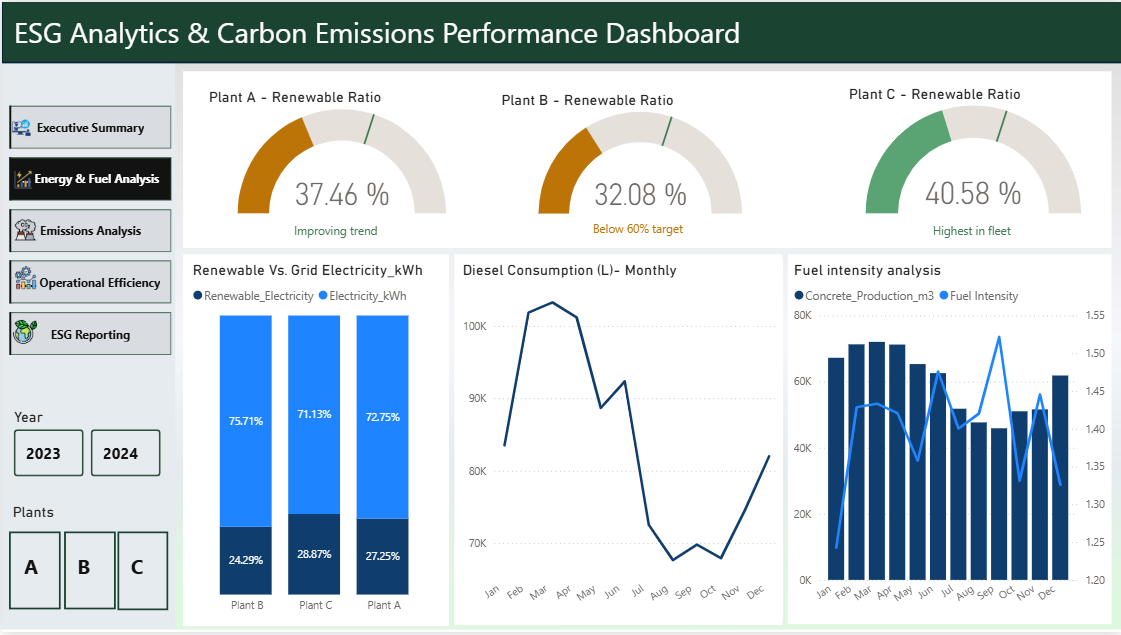

The page's visual inventory and layout, read from the dashboard file:
{"tool":"powerbi","page":{"name":"             ... Energy & Fuel Analysis","canvas":[1280,720],"ordinal":1},"visuals":[{"type":"image","box":[11,193.4,26.1,20.6],"z":0,"group":"g4"},{"type":"hundredPercentStackedColumnChart","title":"Renewable Vs. Grid Electricity_kWh","fields":{"Category":["energy4.Plant"],"Y":["Sum(energy4.Renewable_Electricity_kWh)","Sum(energy4.Electricity_kWh)"]},"box":[212.9,295.7,291.4,411.4],"z":0},{"type":"gauge","title":" Plant A - Renewable Ratio","fields":{"Y":["Dax.Renewable Ratio %"],"TargetValue":["Dax.Renewable Target"]},"box":[231.9,98.8,314.2,148.2],"z":1000,"group":"g1"},{"type":"image","box":[13.7,240.1,24.7,41.2],"z":1000,"group":"g4"},{"type":"lineChart","title":"Diesel Consumption (L)- Monthly","fields":{"Category":["DateTable.Month Name"],"Y":["Sum(energy4.Diesel_Liters)"]},"box":[521.4,295.7,371.4,411.4],"z":1000},{"type":"gauge","title":" Plant B - Renewable Ratio","fields":{"Y":["Dax.Renewable Ratio %"],"TargetValue":["Dax.Renewable Target"]},"box":[565.4,101.5,328,145.5],"z":2000,"group":"g2"},{"type":"lineClusteredColumnComboChart","title":"Fuel intensity analysis","fields":{"Category":["DateTable.Month Name"],"Y":["Sum(production5.Concrete_Production_m3)"],"Y2":["Dax.Fuel Intensity"]},"box":[900.2,296.4,366.4,411.7],"z":2000},{"type":"image","box":[12.4,297.7,27.4,35.7],"z":2000,"group":"g4"},{"type":"gauge","title":" Plant C - Renewable Ratio","fields":{"TargetValue":["Dax.Renewable Target"],"Y":["Dax.Renewable Ratio %"]},"box":[963.3,94.7,295,152.3],"z":3000,"group":"g3"},{"type":"group","id":"g1","title":"Group 1","box":[231.9,98.8,314.2,178.4],"z":3000},{"type":"image","box":[12.4,359.5,27.4,37],"z":3000,"group":"g4"},{"type":"group","id":"g2","title":"Group 2","box":[565.4,101.5,328,175.6],"z":4000},{"type":"image","box":[11,126.2,22,35.7],"z":4000,"group":"g4"},{"type":"textbox","box":[669.7,244.2,126.2,32.9],"z":4000,"group":"g2"},{"type":"group","id":"g3","title":"Group 3","box":[963.3,94.7,295,182.5],"z":5000},{"type":"textbox","box":[1059.4,247,104.3,30.2],"z":5000,"group":"g3"},{"type":"textbox","box":[8.2,6.9,860.4,65.9],"z":6000},{"type":"textbox","box":[329.3,247,109.8,30.2],"z":6000,"group":"g1"},{"type":"advancedSlicerVisual","title":"Plants","fields":{"Values":["plants1.Plant Letter"]},"box":[6.9,572.2,186.6,123.5],"z":7000},{"type":"advancedSlicerVisual","fields":{"Values":["DateTable.Year"]},"box":[8.2,463.8,178.4,83.7],"z":8000},{"type":"pageNavigator","box":[8.2,118,185.2,286.8],"z":9000},{"type":"group","id":"g4","title":"Group 1","box":[11,126.2,28.8,270.3],"z":10000}]}

Visuals, with their boxes in screenshot pixels (x1, y1, x2, y2), scaled from the page's 1280x720 canvas onto the 1121x635 screenshot:
image: x1=10 y1=171 x2=32 y2=189
"Renewable Vs. Grid Electricity_kWh" hundredPercentStackedColumnChart: x1=186 y1=261 x2=442 y2=624
" Plant A - Renewable Ratio" gauge: x1=203 y1=87 x2=478 y2=218
image: x1=12 y1=212 x2=34 y2=248
"Diesel Consumption (L)- Monthly" lineChart: x1=457 y1=261 x2=782 y2=624
" Plant B - Renewable Ratio" gauge: x1=495 y1=90 x2=782 y2=218
"Fuel intensity analysis" lineClusteredColumnComboChart: x1=788 y1=261 x2=1109 y2=625
image: x1=11 y1=263 x2=35 y2=294
" Plant C - Renewable Ratio" gauge: x1=844 y1=84 x2=1102 y2=218
"Group 1" group: x1=203 y1=87 x2=478 y2=244
image: x1=11 y1=317 x2=35 y2=350
"Group 2" group: x1=495 y1=90 x2=782 y2=244
image: x1=10 y1=111 x2=29 y2=143
textbox: x1=587 y1=215 x2=697 y2=244
"Group 3" group: x1=844 y1=84 x2=1102 y2=244
textbox: x1=928 y1=218 x2=1019 y2=244
textbox: x1=7 y1=6 x2=761 y2=64
textbox: x1=288 y1=218 x2=385 y2=244
"Plants" advancedSlicerVisual: x1=6 y1=505 x2=169 y2=614
advancedSlicerVisual - DateTable.Year: x1=7 y1=409 x2=163 y2=483
pageNavigator: x1=7 y1=104 x2=169 y2=357
"Group 1" group: x1=10 y1=111 x2=35 y2=350
